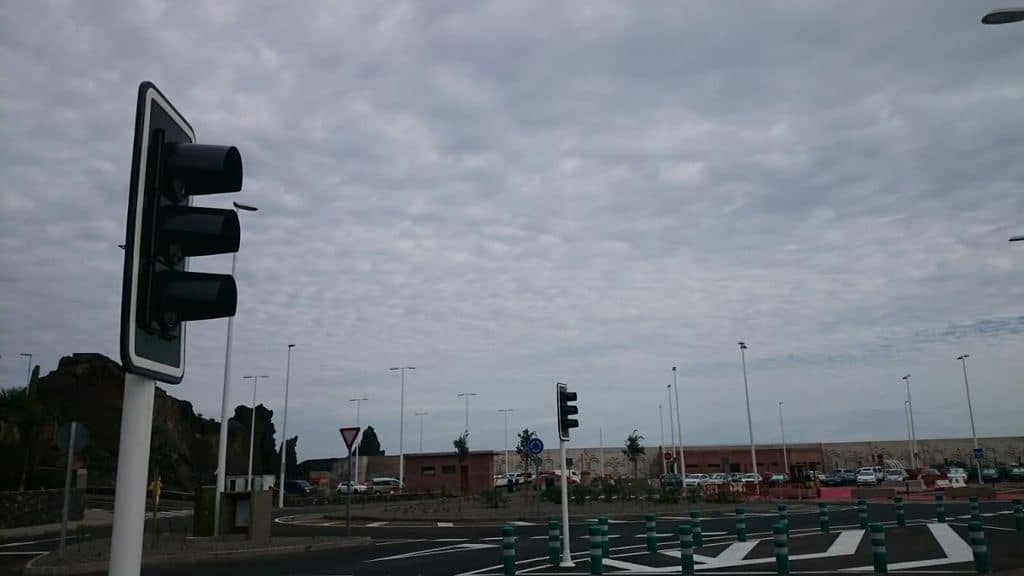Poste: (112, 372, 156, 576)
Semaforo: (128, 84, 244, 390)
